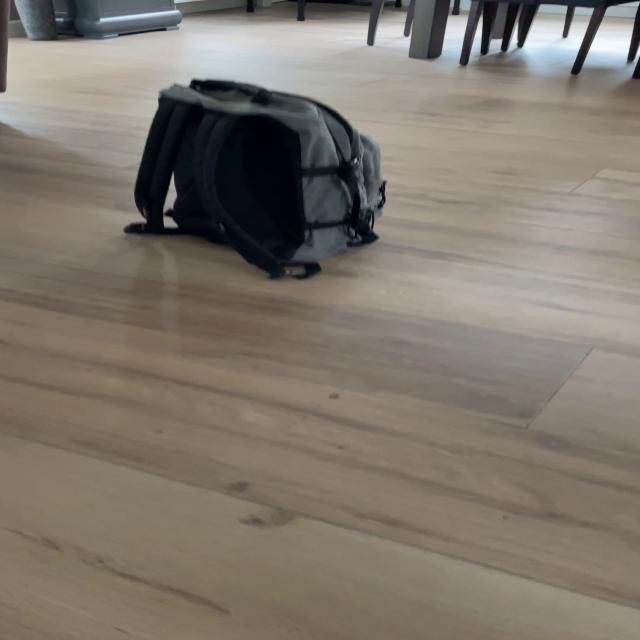backpack: (125, 72, 396, 280)
